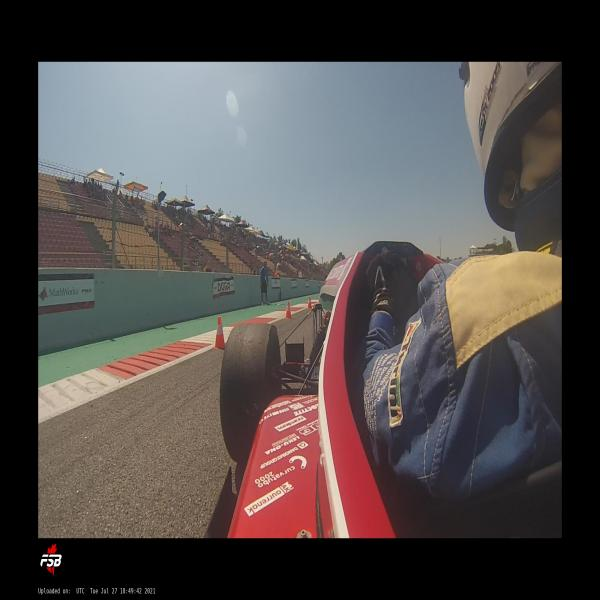orange_cone: (211, 315, 225, 350), (284, 301, 294, 320), (307, 296, 312, 309), (274, 271, 278, 277)
